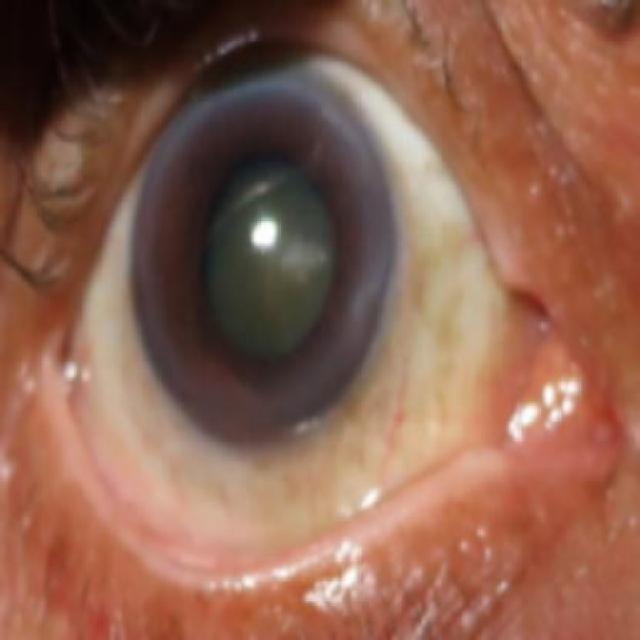Cataract: (127, 71, 393, 448)
